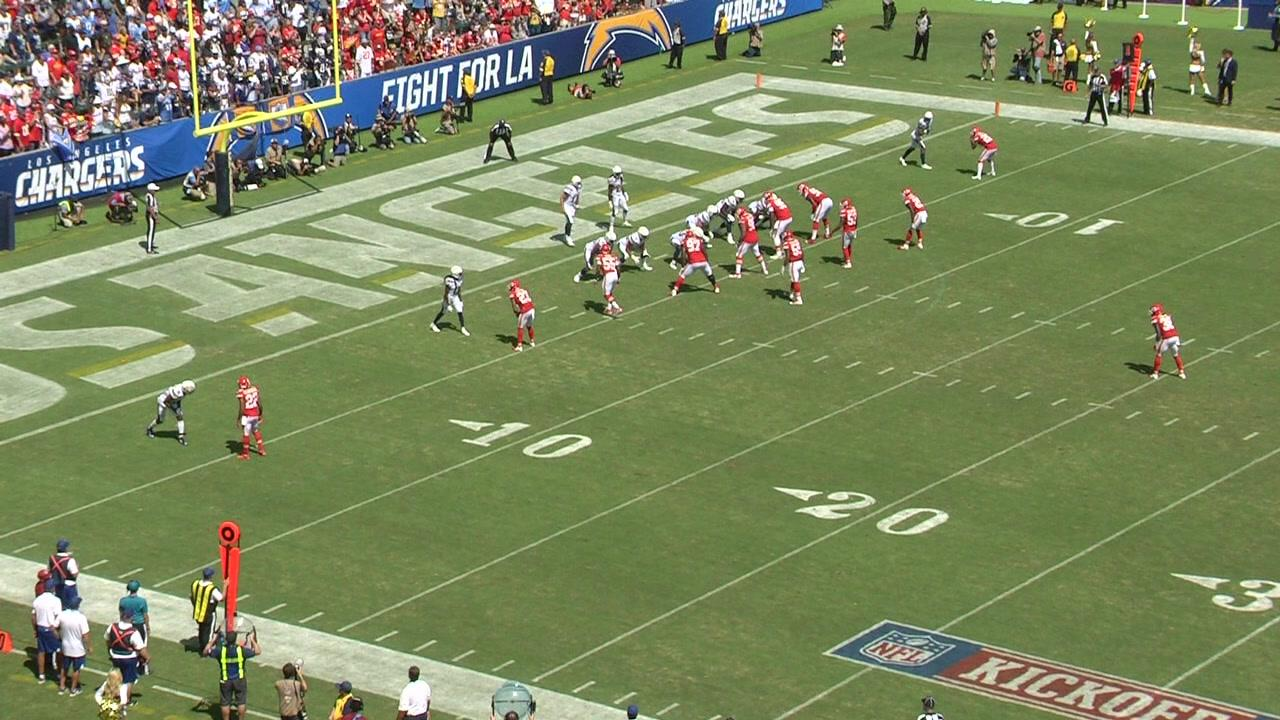player: (141, 372, 201, 450), (665, 231, 722, 297), (1147, 302, 1187, 386), (230, 374, 269, 460), (429, 261, 469, 341), (726, 208, 769, 281), (572, 232, 623, 285), (761, 190, 794, 262), (594, 243, 625, 318), (898, 185, 931, 254), (826, 201, 859, 270), (900, 109, 936, 172), (966, 123, 1001, 187), (507, 277, 536, 353), (553, 175, 584, 246), (798, 183, 834, 242), (781, 232, 808, 307), (615, 226, 654, 275), (669, 224, 706, 270), (716, 189, 746, 245), (687, 204, 719, 249), (607, 162, 627, 229), (748, 192, 778, 230)
ref: (1079, 66, 1112, 130), (481, 117, 521, 167), (140, 180, 165, 257)
